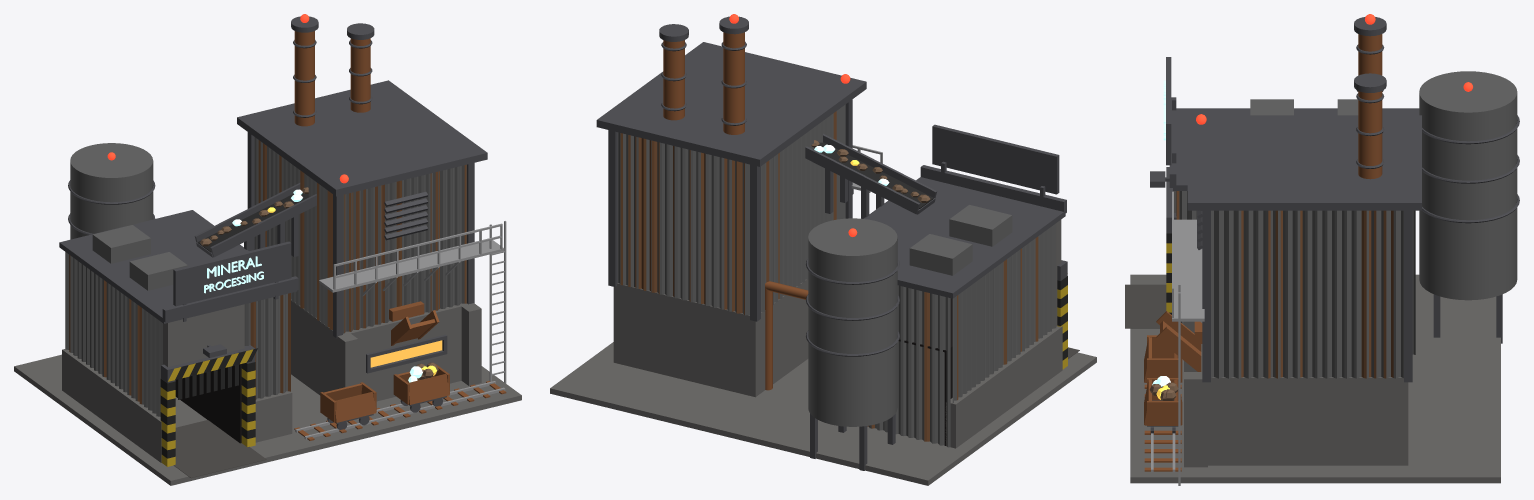
The model's file is mineral_processing.glb.
3 renders of one model, left to right at view 1: azimuth 30°, elevation 25°; view 2: azimuth 150°, elevation 25°; view 3: azimuth 270°, elevation 25°, orthographic. The views are drawn at different scales.
Visible parts, largest first — view 1: TowerWalls, TowerFrame, Pad, HallWalls, HallRoof, TowerBase, HallBase, Silo, Catwalk, Stacks, SignBoard, BayFrame (+12 smaller); view 2: TowerWalls, Pad, TowerFrame, Silo, HallWalls, TowerBase, HallRoof, HallBase, SignBoard, Stacks, ConveyorFrame, Pipes (+5 smaller); view 3: TowerWalls, Pad, TowerFrame, Silo, TowerBase, Stacks, HallRoof, Catwalk, Chute, CartA, CartB, Rails (+4 smaller).
Part boxes in pixels (x1,y1,x2,y2): TowerWalls: (254,137,466,333); TowerFrame: (237,80,487,338); Pad: (14,354,521,485); HallWalls: (65,252,290,416); HallRoof: (59,210,298,323); TowerBase: (291,299,481,401); HallBase: (62,304,292,462); Silo: (68,143,155,239); Catwalk: (319,221,506,383); Stacks: (291,16,374,126); SignBoard: (173,241,291,321); BayFrame: (160,345,257,466); TowerWalls: (617,104,845,315); Pad: (550,342,1096,485); TowerFrame: (596,42,866,321); Silo: (806,218,899,470); HallWalls: (867,223,1056,447); TowerBase: (613,279,808,397); HallRoof: (863,165,1066,298); HallBase: (945,220,1062,448); SignBoard: (932,124,1059,206); Stacks: (659,16,748,134); ConveyorFrame: (805,133,936,214); Pipes: (765,281,808,390); TowerWalls: (1211,210,1403,378); Pad: (1125,274,1500,483); TowerFrame: (1187,115,1421,382); Silo: (1419,71,1519,343); TowerBase: (1184,321,1408,467); Stacks: (1354,16,1386,179); HallRoof: (1169,97,1419,190); Catwalk: (1172,191,1204,485); Chute: (1156,311,1202,371); CartA: (1144,378,1182,434); CartB: (1144,335,1182,382); Rails: (1144,384,1181,472).
Size of the model in its own units: 4.46 by 4.07 by 3.62.
